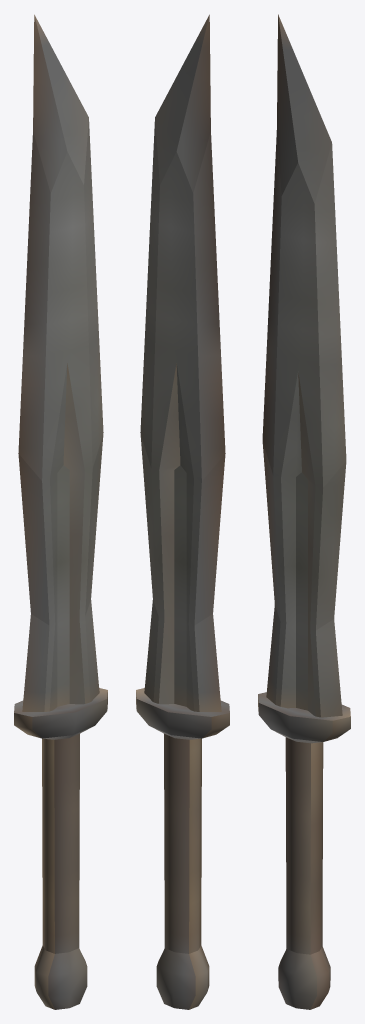
File: Asset_03_sword_v001.obj
The picture shows the model from 3 angles, left to right: view 1: azimuth 30°, elevation 25°; view 2: azimuth 150°, elevation 25°; view 3: azimuth 330°, elevation 25°; orthographic projection.
Parts seen in each view (by area): view 1: Asset_3_sword_low; view 2: Asset_3_sword_low; view 3: Asset_3_sword_low.
Boxes of the visible parts, x1=… form: Asset_3_sword_low: x1=14, y1=14, x2=107, y2=1009; Asset_3_sword_low: x1=136, y1=14, x2=229, y2=1009; Asset_3_sword_low: x1=258, y1=14, x2=350, y2=1009.
Size of the model in its own units: 0.1738 by 1.76 by 0.0948.
